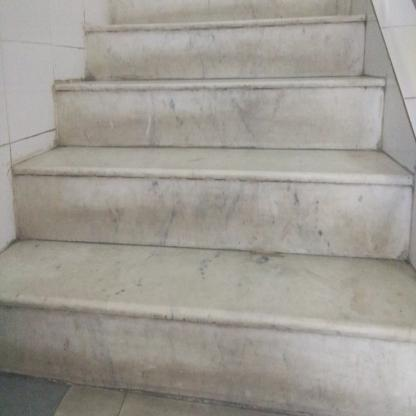stairs: (95, 50, 346, 416)
